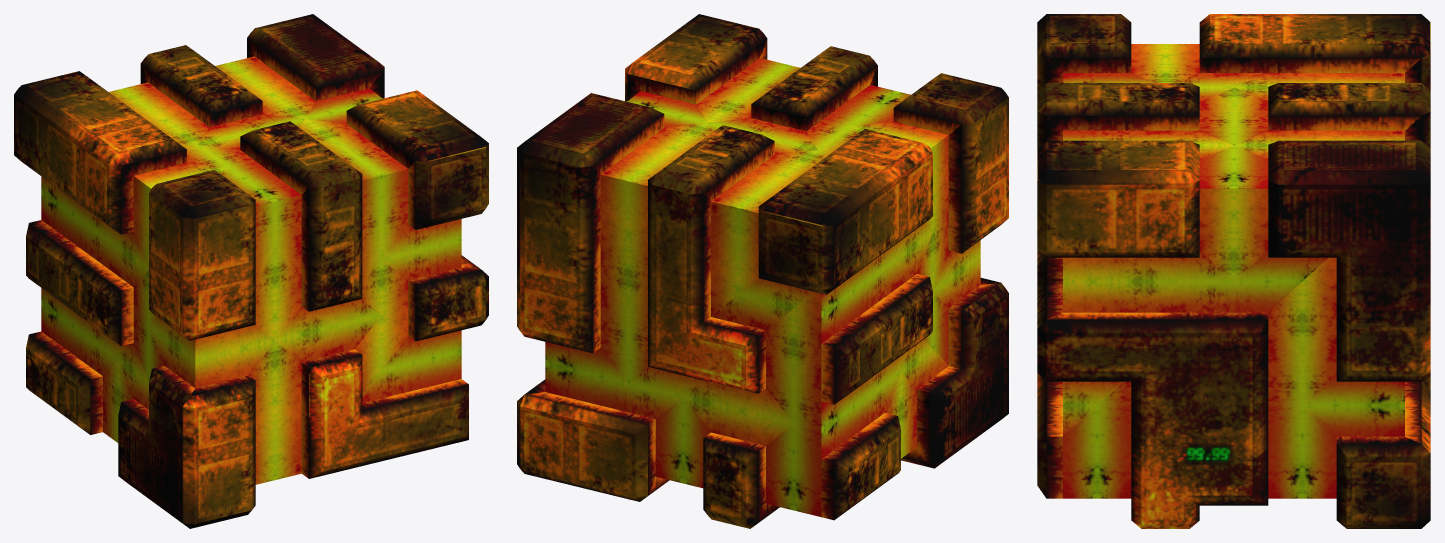
File: item_weapon_03.fbx
3 views of the same model, side by side, from view 1: azimuth 30°, elevation 25°; view 2: azimuth 150°, elevation 25°; view 3: azimuth 270°, elevation 25° (orthographic). The views are drawn at different scales.
Visible parts, largest first — view 1: Artifact01; view 2: Artifact01; view 3: Artifact01.
Part boxes in pixels (bbox=[...]): Artifact01: bbox=[14, 14, 488, 528]; Artifact01: bbox=[517, 14, 1008, 528]; Artifact01: bbox=[1037, 14, 1430, 528].
Size of the model in its own units: 629 by 629 by 629.
1 material, 1 textured.
